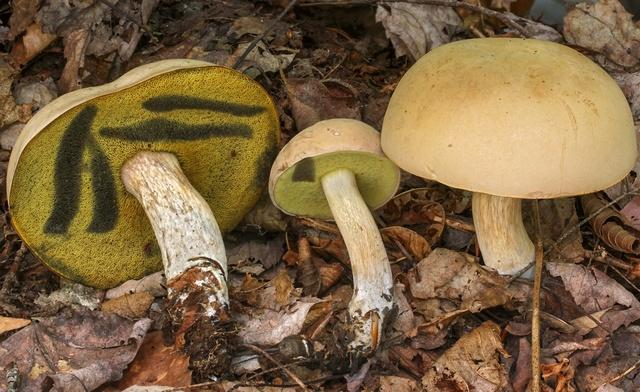Edible Mushroom: (6, 52, 278, 388), (379, 35, 637, 281), (267, 116, 401, 358)
